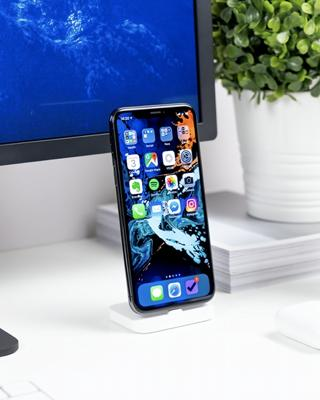Mobile Phone: (107, 101, 216, 314)
